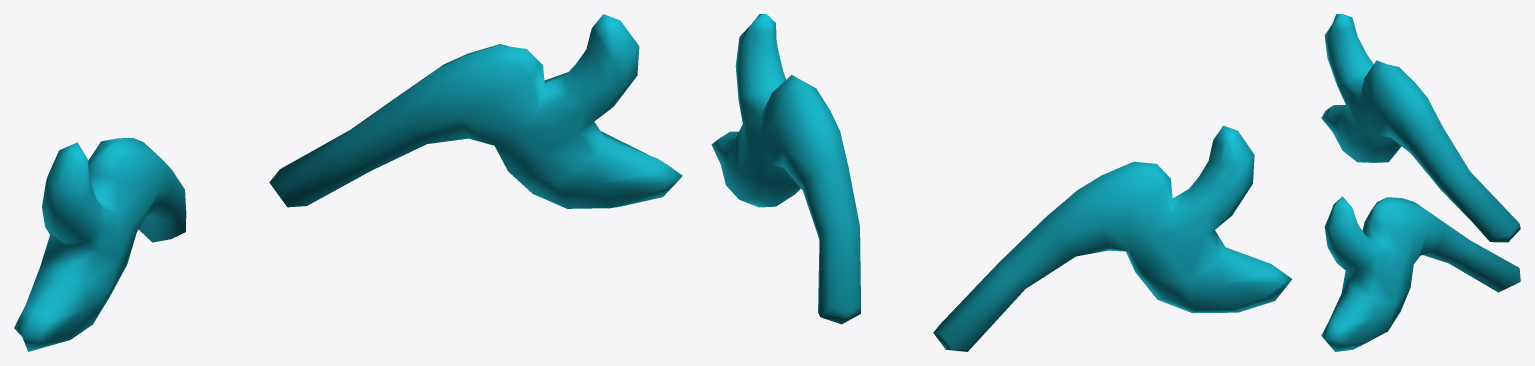
File: Headgear_25.fbx
3 renders of one model, left to right at view 1: azimuth 30°, elevation 25°; view 2: azimuth 150°, elevation 25°; view 3: azimuth 270°, elevation 25°, orthographic. The views are drawn at different scales.
Parts seen in each view (by area): view 1: Headgear_25; view 2: Headgear_25; view 3: Headgear_25.
Boxes of the visible parts, x1=… form: Headgear_25: x1=14, y1=14, x2=682, y2=351; Headgear_25: x1=711, y1=14, x2=1292, y2=351; Headgear_25: x1=1321, y1=14, x2=1520, y2=351.
Bounding box in the file's own units: 103 × 33.67 × 37.97.
